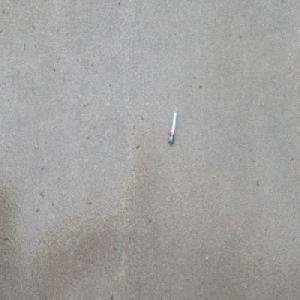Battery: (168, 111, 177, 145)
